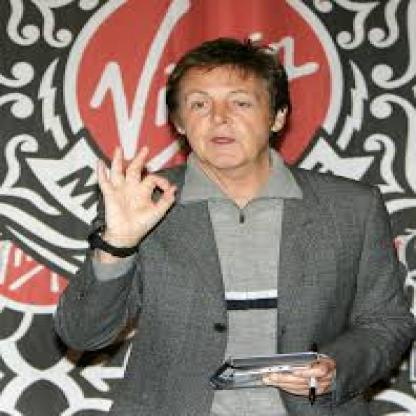ok: (95, 146, 183, 236)
